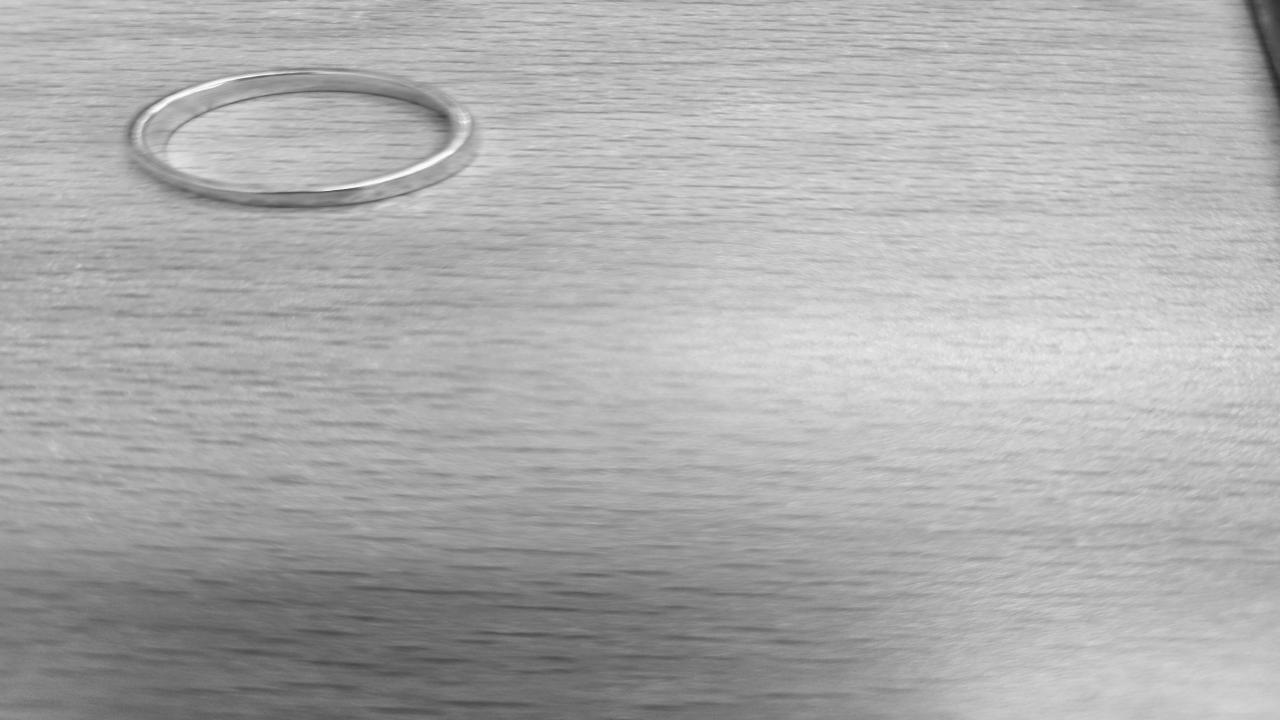ring: (125, 68, 482, 208)
